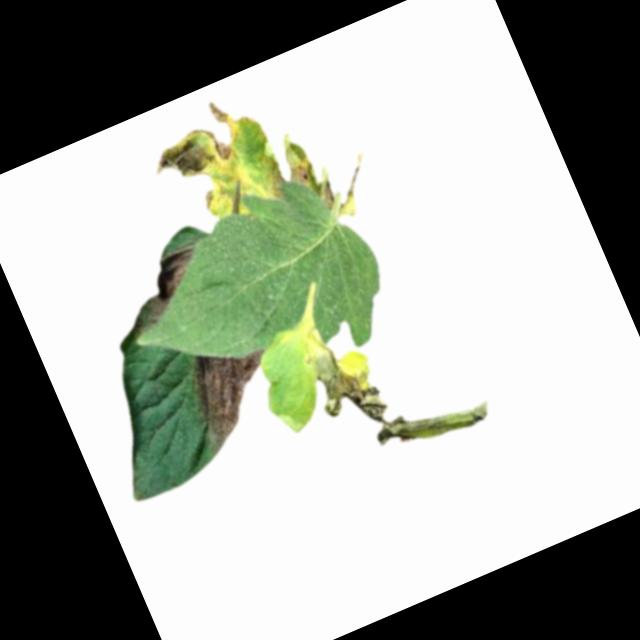Late_blight: (299, 291, 495, 476), (175, 332, 291, 457), (129, 242, 217, 330), (146, 119, 237, 194), (205, 87, 260, 146), (274, 127, 319, 191), (251, 137, 293, 201), (200, 189, 220, 212)
healthy: (101, 160, 407, 427)
